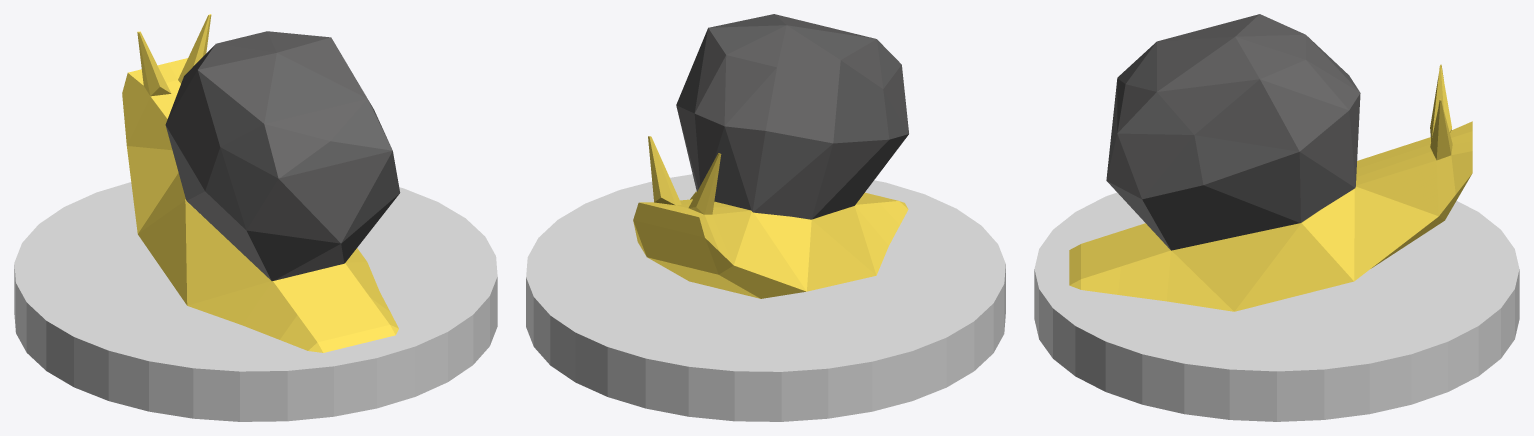
File: snail_gray.fbx
The picture shows the model from 3 angles, left to right: view 1: azimuth 30°, elevation 25°; view 2: azimuth 150°, elevation 25°; view 3: azimuth 270°, elevation 25°; orthographic projection.
Visible parts, largest first — view 1: Cylinder, Cube.001, Cube; view 2: Cylinder, Cube.001, Cube; view 3: Cylinder, Cube.001, Cube.
Part boxes in pixels (bbox=[...]): Cylinder: bbox=[14, 182, 497, 421]; Cube.001: bbox=[165, 31, 400, 280]; Cube: bbox=[122, 14, 398, 352]; Cylinder: bbox=[526, 174, 1005, 421]; Cube.001: bbox=[676, 14, 908, 219]; Cube: bbox=[633, 136, 908, 298]; Cylinder: bbox=[1034, 192, 1519, 421]; Cube.001: bbox=[1106, 14, 1360, 250]; Cube: bbox=[1069, 64, 1472, 311].
Size of the model in its own units: 386 by 248 by 386.
Materials: 3 (2 with a texture image).
